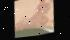plaque psoriasis: (11, 0, 52, 33), (12, 0, 54, 15)
